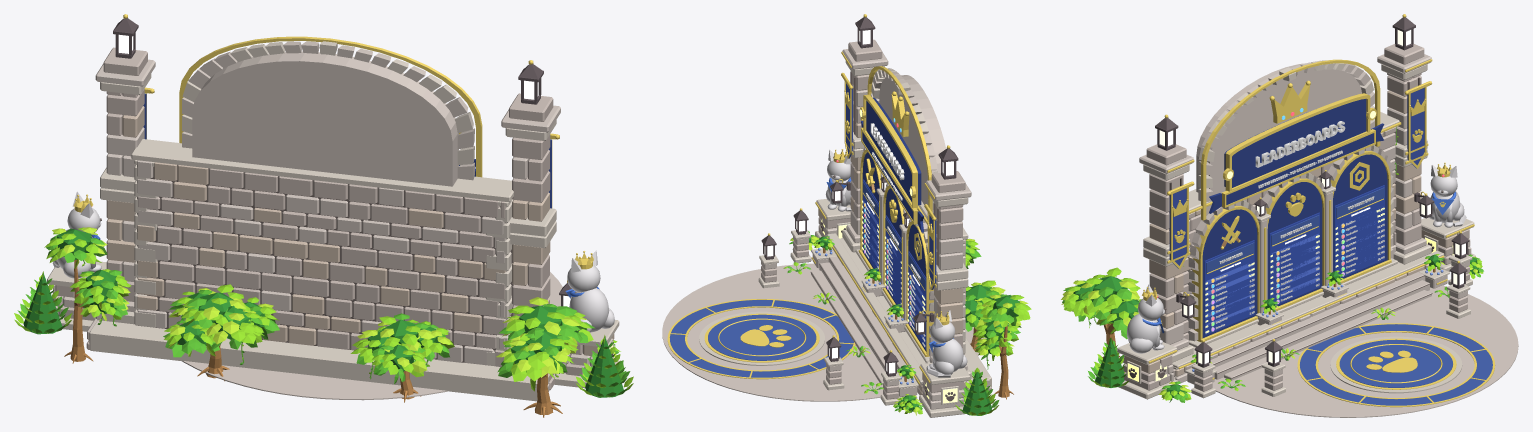
The model's file is TowerOfPets_Leaderboards.fbx.
3 renders of one model, left to right at view 1: azimuth 30°, elevation 25°; view 2: azimuth 150°, elevation 25°; view 3: azimuth 270°, elevation 25°, orthographic. The views are drawn at different scales.
Visible parts, largest first — view 1: Leaderboards_Back_Wall__Castle_Stone_Light, Leaderboards_Back_Wall__Castle_Stone, Leaderboards_Back_Wall__Castle_Stone_Warm, Leaderboards_Foundation__Castle_Trim, Leaderboards_Pillars__Castle_Stone, Leaderboards_Back_Wall__Castle_Trim, Leaderboards_Cornice__Castle_Trim, Leaderboards_Back_Wall__Castle_Seam, Leaderboards_Paving__Castle_Stone_Light, Leaderboards_Pillars__Castle_Stone_Warm, Leaderboards_Pillars__Castle_Stone_Light, Leaderboards_Pillars__Castle_Trim (+29 smaller); view 2: Leaderboards_Paving__Castle_Stone_Light, Leaderboards_Steps__Castle_Stone_Light, Leaderboards_FloorEmblem__Lb_Navy_Light, Leaderboards_Paving__Lb_Navy_Light, Leaderboards_Back_Wall__Castle_Stone_Light, Leaderboards_Pillars__Castle_Stone, Leaderboards_Pillars__Castle_Stone_Light, Leaderboards_FloorEmblem__Gold, Leaderboards_Paving__Gold, Leaderboards_Pillars__Castle_Trim, Leaderboards_CatStatue_R__Lb_Statue, Leaderboards_Sign__Lb_Navy (+38 smaller); view 3: Leaderboards_Paving__Castle_Stone_Light, Leaderboards_Back_Wall__Castle_Stone_Light, Leaderboards_Steps__Castle_Stone_Light, Leaderboards_Pillars__Castle_Stone, Leaderboards_Sign__Lb_Navy, Leaderboards_Paving__Lb_Navy_Light, Leaderboards_FloorEmblem__Lb_Navy_Light, Leaderboard_3_Screen__Lb_Screen, Leaderboards_Pillars__Castle_Stone_Light, Leaderboard_2_Screen__Lb_Screen, Leaderboard_1_Screen__Lb_Screen, Leaderboards_Gold_Trim__Gold (+50 smaller).
Boxes of the visible parts, x1=… form: Leaderboards_Back_Wall__Castle_Stone_Light: x1=137, y1=41, x2=506, y2=365; Leaderboards_Back_Wall__Castle_Stone: x1=137, y1=168, x2=506, y2=366; Leaderboards_Back_Wall__Castle_Stone_Warm: x1=137, y1=162, x2=506, y2=345; Leaderboards_Foundation__Castle_Trim: x1=89, y1=320, x2=537, y2=401; Leaderboards_Pillars__Castle_Stone: x1=103, y1=47, x2=553, y2=316; Leaderboards_Back_Wall__Castle_Trim: x1=134, y1=41, x2=513, y2=366; Leaderboards_Cornice__Castle_Trim: x1=131, y1=139, x2=513, y2=202; Leaderboards_Back_Wall__Castle_Seam: x1=137, y1=164, x2=513, y2=365; Leaderboards_Paving__Castle_Stone_Light: x1=182, y1=272, x2=562, y2=400; Leaderboards_Pillars__Castle_Stone_Warm: x1=106, y1=106, x2=550, y2=306; Leaderboards_Pillars__Castle_Stone_Light: x1=95, y1=59, x2=560, y2=353; Leaderboards_Pillars__Castle_Trim: x1=95, y1=74, x2=556, y2=324; Leaderboards_Paving__Castle_Stone_Light: x1=662, y1=263, x2=986, y2=401; Leaderboards_Steps__Castle_Stone_Light: x1=811, y1=254, x2=914, y2=384; Leaderboards_FloorEmblem__Lb_Navy_Light: x1=708, y1=314, x2=816, y2=360; Leaderboards_Paving__Lb_Navy_Light: x1=670, y1=300, x2=853, y2=377; Leaderboards_Back_Wall__Castle_Stone_Light: x1=871, y1=68, x2=965, y2=354; Leaderboards_Pillars__Castle_Stone: x1=848, y1=39, x2=965, y2=351; Leaderboards_Pillars__Castle_Stone_Light: x1=842, y1=49, x2=971, y2=370; Leaderboards_FloorEmblem__Gold: x1=704, y1=313, x2=819, y2=362; Leaderboards_Paving__Gold: x1=667, y1=299, x2=855, y2=379; Leaderboards_Pillars__Castle_Trim: x1=842, y1=60, x2=971, y2=379; Leaderboards_CatStatue_R__Lb_Statue: x1=926, y1=310, x2=967, y2=377; Leaderboards_Sign__Lb_Navy: x1=866, y1=97, x2=921, y2=205; Leaderboards_Paving__Castle_Stone_Light: x1=1212, y1=285, x2=1518, y2=417; Leaderboards_Back_Wall__Castle_Stone_Light: x1=1183, y1=62, x2=1395, y2=320; Leaderboards_Steps__Castle_Stone_Light: x1=1209, y1=270, x2=1431, y2=380; Leaderboards_Pillars__Castle_Stone: x1=1146, y1=44, x2=1424, y2=324; Leaderboards_Sign__Lb_Navy: x1=1224, y1=99, x2=1366, y2=187; Leaderboards_Paving__Lb_Navy_Light: x1=1300, y1=324, x2=1492, y2=405; Leaderboards_FloorEmblem__Lb_Navy_Light: x1=1339, y1=339, x2=1452, y2=387; Leaderboard_3_Screen__Lb_Screen: x1=1334, y1=185, x2=1384, y2=277; Leaderboards_Pillars__Castle_Stone_Light: x1=1139, y1=54, x2=1431, y2=350; Leaderboard_2_Screen__Lb_Screen: x1=1269, y1=212, x2=1319, y2=305; Leaderboard_1_Screen__Lb_Screen: x1=1204, y1=240, x2=1254, y2=335; Leaderboards_Gold_Trim__Gold: x1=1178, y1=59, x2=1444, y2=369.
Size of the model in its own units: 7715 by 4997 by 8065.
